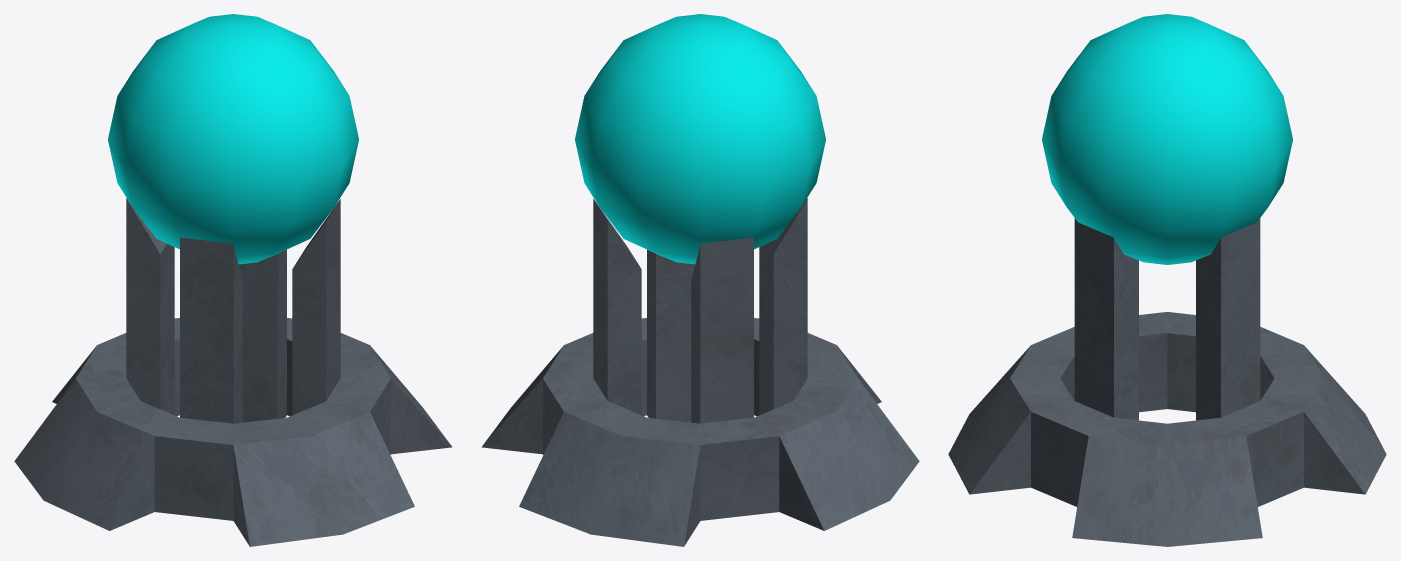
Rendered from Item.fbx.
3 renders of one model, left to right at view 1: azimuth 30°, elevation 25°; view 2: azimuth 150°, elevation 25°; view 3: azimuth 270°, elevation 25°, orthographic.
Visible parts, largest first — view 1: pPipe1, pSphere1; view 2: pPipe1, pSphere1; view 3: pPipe1, pSphere1.
Boxes of the visible parts, x1,y1,x2,y2 form: pPipe1: (14,198,452,546); pSphere1: (108,14,358,264); pPipe1: (481,198,919,546); pSphere1: (575,14,825,264); pPipe1: (948,218,1386,546); pSphere1: (1042,14,1292,264).
Size of the model in its own units: 52.33 by 56.47 by 52.33.
2 materials, 1 textured.
